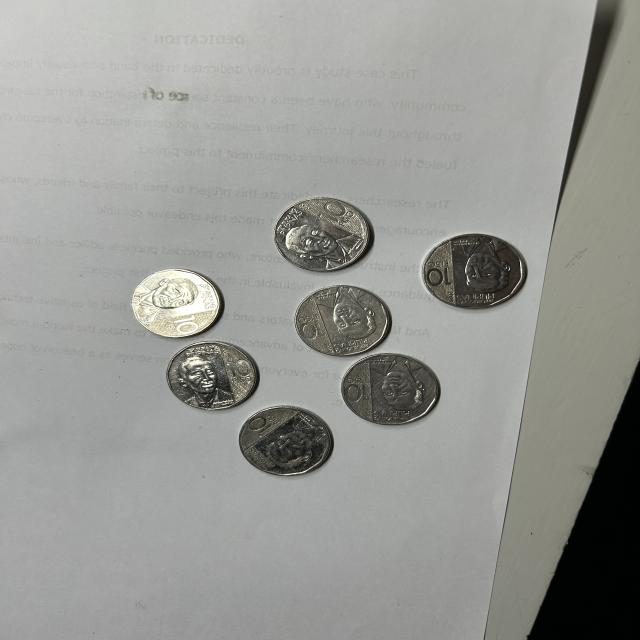10_New_Front: (214, 358, 256, 392), (419, 251, 456, 287), (318, 200, 358, 227), (338, 375, 366, 410), (294, 305, 326, 335), (168, 316, 206, 338), (248, 418, 282, 438)
